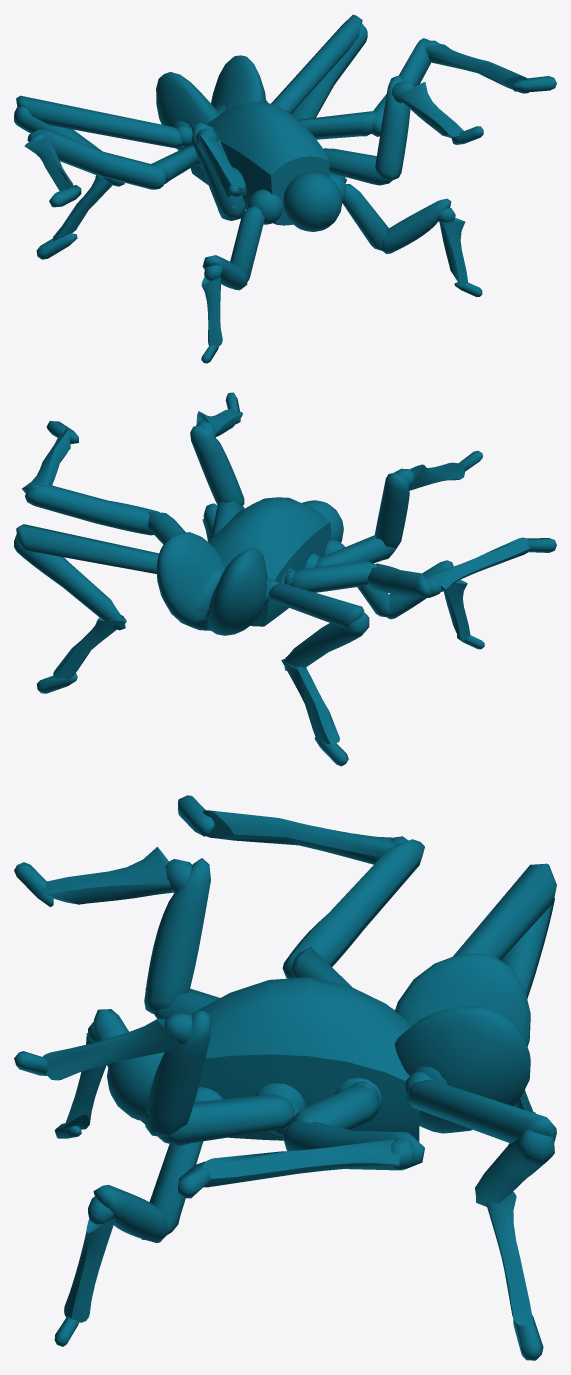
Rendered from KikimoraAttack.fbx.
3 renders of one model, top to bottom at view 1: azimuth 30°, elevation 25°; view 2: azimuth 150°, elevation 25°; view 3: azimuth 270°, elevation 25°, orthographic. The views are drawn at different scales.
Parts seen in each view (by area): view 1: Sphere014; view 2: Sphere014; view 3: Sphere014.
Boxes of the visible parts, <box> form: Sphere014: <box>14,14,556,363</box>; Sphere014: <box>14,392,556,766</box>; Sphere014: <box>14,795,556,1360</box>.
Size of the model in its own units: 504 by 193 by 301.
